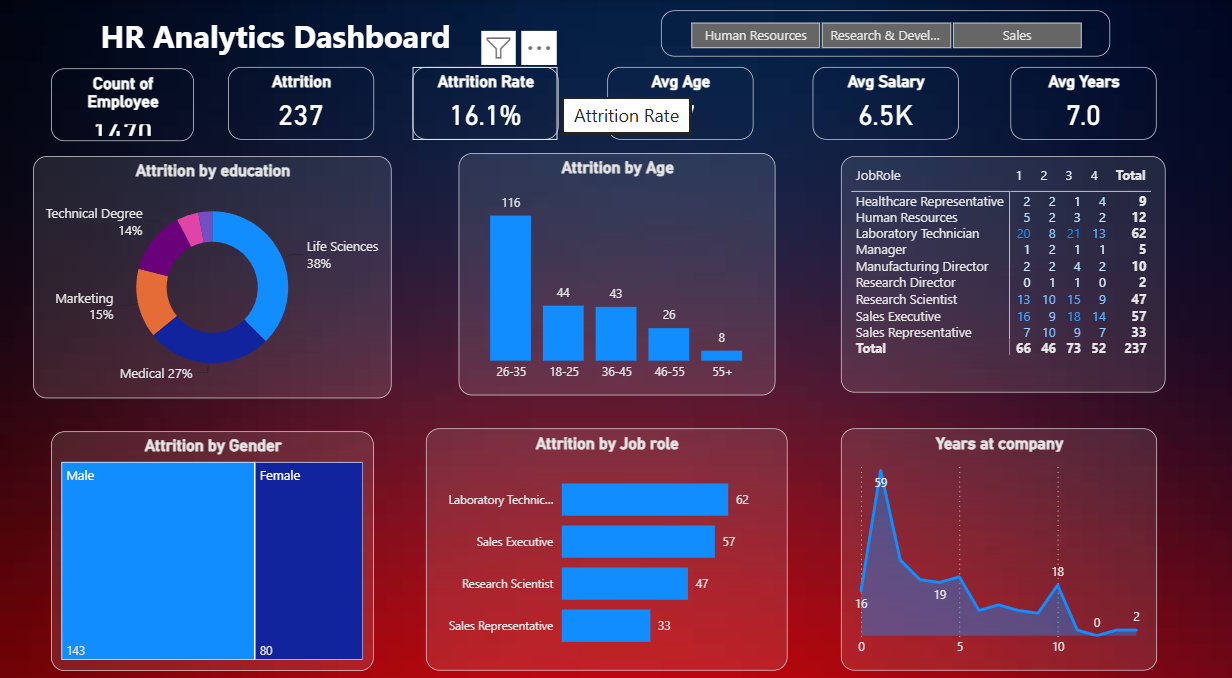

Layout of this report page (visuals, bound fields, positions):
{"tool":"powerbi","page":{"name":"Page 1","canvas":[1280,720],"ordinal":0},"visuals":[{"type":"card","title":"Count of Employee","fields":{"Values":["CountNonNull(HR_Analytics (2).EmpID)"]},"box":[53.9,70.9,147.9,75.5],"z":0},{"type":"card","title":"Attrition","fields":{"Values":["Sum(HR_Analytics (2).AttritionCount)"]},"box":[237.2,69.3,151,75.5],"z":1000},{"type":"card","title":"Attrition Rate","fields":{"Values":["HR_Analytics (2).AttritionRate"]},"box":[428.2,69.3,151,75.5],"z":2000},{"type":"card","title":"Avg Age","fields":{"Values":["Avg(HR_Analytics (2).Age)"]},"box":[630,69.3,151,75.5],"z":3000},{"type":"card","title":"Avg Salary","fields":{"Values":["Avg(HR_Analytics (2).MonthlyIncome)"]},"box":[842.6,69.3,151,75.5],"z":4000},{"type":"card","title":"Avg Years","fields":{"Values":["Avg(HR_Analytics (2).YearsAtCompany)"]},"box":[1047.5,69.3,151,75.5],"z":5000},{"type":"donutChart","title":"Attrition by education","fields":{"Category":["HR_Analytics (2).EducationField"],"Y":["Sum(HR_Analytics (2).AttritionCount)"]},"box":[35.4,161.7,371.2,251.1],"z":6000},{"type":"columnChart","title":"Attrition by Age","fields":{"Category":["HR_Analytics (2).AgeGroup"],"Y":["Sum(HR_Analytics (2).AttritionCount)"]},"box":[476,158.7,328.1,251.1],"z":7000},{"type":"pivotTable","fields":{"Columns":["HR_Analytics (2).JobSatisfaction"],"Rows":["HR_Analytics (2).JobRole"],"Values":["Sum(HR_Analytics (2).AttritionCount)"]},"box":[871.9,161.7,335.8,244.9],"z":8000},{"type":"barChart","title":"Attrition by  Job role","fields":{"Category":["HR_Analytics (2).JobRole"],"Y":["Sum(HR_Analytics (2).AttritionCount)"]},"box":[442.1,443.6,374.3,251.1],"z":9000},{"type":"areaChart","title":"Years at company","fields":{"Category":["HR_Analytics (2).YearsAtCompany"],"Y":["Sum(HR_Analytics (2).AttritionCount)"]},"box":[871.6,444.2,327.1,250.9],"z":10000},{"type":"treemap","title":"Attrition by Gender","fields":{"Group":["HR_Analytics (2).Gender"],"Values":["Sum(HR_Analytics (2).AttritionCount)"]},"box":[53.9,446.7,334.3,248],"z":11000},{"type":"slicer","fields":{"Values":["HR_Analytics (2).Department"]},"box":[685.5,10.8,465.2,47.8],"z":12000},{"type":"textbox","box":[100.1,10.8,508.3,58.5],"z":13000}]}

Visuals, with their boxes in screenshot pixels (x1, y1, x2, y2), scaled from the page's 1280x720 canvas onto the 1232x678 screenshot:
"Count of Employee" card: rect(52, 67, 194, 138)
"Attrition" card: rect(228, 65, 374, 136)
"Attrition Rate" card: rect(412, 65, 557, 136)
"Avg Age" card: rect(606, 65, 752, 136)
"Avg Salary" card: rect(811, 65, 956, 136)
"Avg Years" card: rect(1008, 65, 1154, 136)
"Attrition by education" donutChart: rect(34, 152, 391, 389)
"Attrition by Age" columnChart: rect(458, 149, 774, 386)
pivotTable - HR_Analytics (2).JobSatisfaction x HR_Analytics (2).JobRole: rect(839, 152, 1162, 383)
"Attrition by  Job role" barChart: rect(426, 418, 786, 654)
"Years at company" areaChart: rect(839, 418, 1154, 655)
"Attrition by Gender" treemap: rect(52, 421, 374, 654)
slicer - HR_Analytics (2).Department: rect(660, 10, 1108, 55)
textbox: rect(96, 10, 586, 65)
